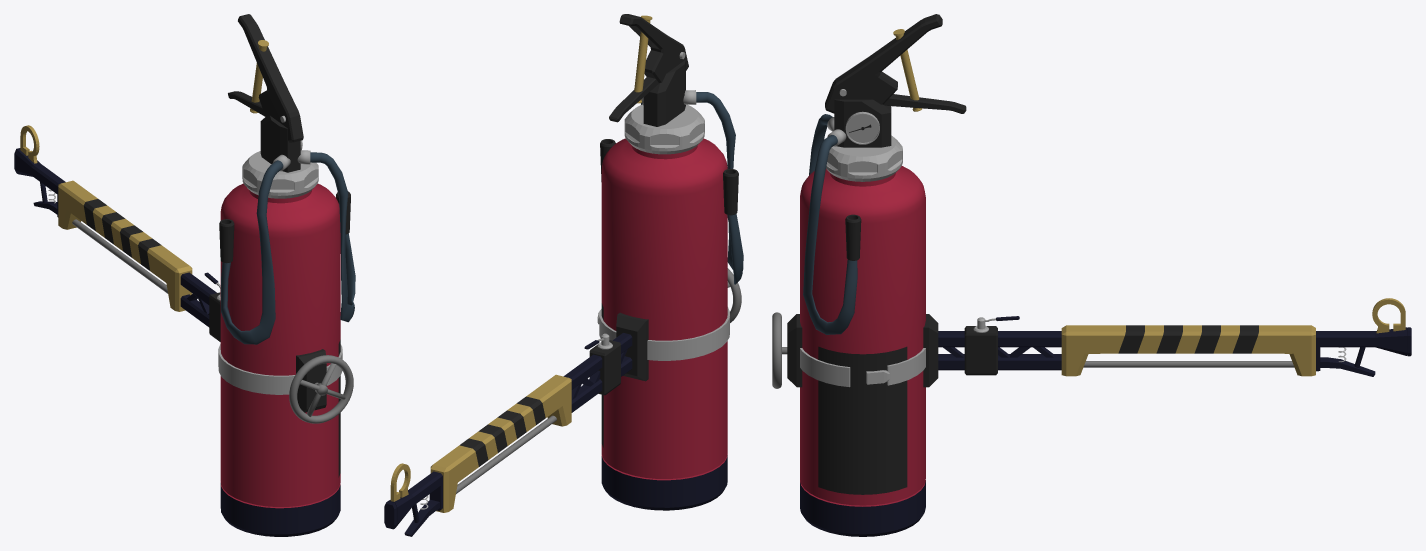
File: Hammer.fbx
3 renders of one model, left to right at view 1: azimuth 30°, elevation 25°; view 2: azimuth 150°, elevation 25°; view 3: azimuth 270°, elevation 25°, orthographic. The views are drawn at different scales.
Visible parts, largest first — view 1: 円柱, 円柱.009, 立方体.005, 立方体.008, トーラス, 円柱.001, 円柱.002, 立方体.007, 立方体.002, 立方体.003, 立方体.011, 円柱.010 (+4 smaller); view 2: 円柱, 立方体.005, 円柱.001, 円柱.002, 立方体.008, 円柱.009, 立方体.007, 立方体.003, 立方体.002, 立方体.011, 立方体.004, 円柱.010 (+6 smaller); view 3: 円柱, 立方体.005, 円柱.009, 立方体.008, 立方体.003, 円柱.001, 立方体.002, 立方体.011, 円柱.002, 立方体.007, 立方体.004, 円柱.007 (+3 smaller).
Part boxes in pixels (x1,y1,x2,y2): 円柱: [220, 183, 340, 536]; 円柱.009: [221, 150, 355, 344]; 立方体.005: [58, 180, 192, 311]; 立方体.008: [238, 14, 303, 142]; トーラス: [289, 355, 353, 423]; 円柱.001: [242, 151, 318, 198]; 円柱.002: [218, 344, 342, 394]; 立方体.007: [260, 115, 300, 172]; 立方体.002: [296, 349, 326, 412]; 立方体.003: [180, 272, 216, 327]; 立方体.011: [14, 148, 65, 217]; 円柱.010: [219, 191, 350, 263]; 円柱: [601, 138, 727, 510]; 立方体.005: [430, 374, 571, 512]; 円柱.001: [624, 104, 704, 154]; 円柱.002: [599, 307, 729, 360]; 立方体.008: [619, 14, 688, 83]; 円柱.009: [641, 90, 743, 284]; 立方体.007: [643, 60, 685, 126]; 立方体.003: [563, 333, 632, 412]; 立方体.002: [616, 312, 648, 381]; 立方体.011: [384, 471, 442, 529]; 立方体.004: [589, 340, 620, 395]; 円柱.010: [600, 139, 738, 215]; 円柱: [800, 166, 925, 536]; 立方体.005: [1061, 325, 1315, 376]; 円柱.009: [803, 114, 857, 334]; 立方体.008: [825, 14, 942, 113]; 立方体.003: [938, 331, 1061, 370]; 円柱.001: [826, 135, 902, 181]; 立方体.002: [787, 314, 938, 387]; 立方体.011: [1316, 327, 1411, 371]; 円柱.002: [800, 348, 925, 387]; 立方体.007: [834, 99, 891, 147]; 立方体.004: [964, 326, 997, 375]; 円柱.007: [1083, 361, 1294, 367].
Bounding box in the file's own units: 25.59 × 86.67 × 101.
